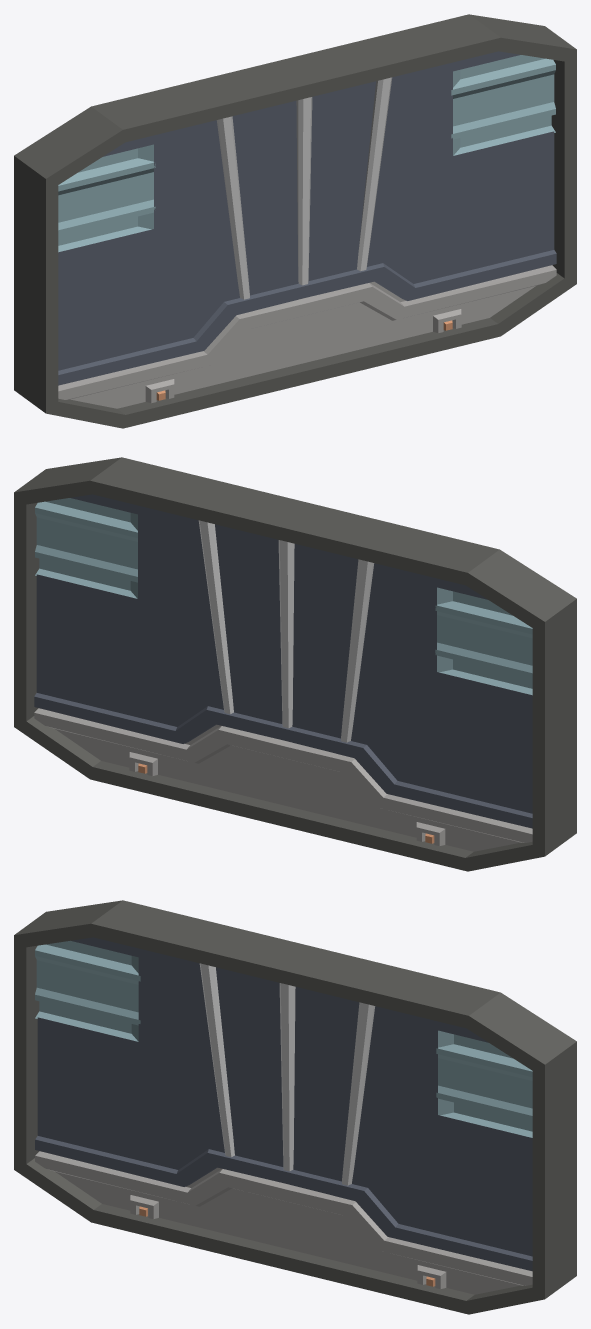
Rendered from gate.fbx.
3 renders of one model, top to bottom at view 1: azimuth 30°, elevation 25°; view 2: azimuth 150°, elevation 25°; view 3: azimuth 330°, elevation 25°, orthographic.
Parts seen in each view (by area): view 1: 对象003, Box013, Box014; view 2: 对象003, Box013, Box014; view 3: 对象003, Box013, Box014.
Boxes of the visible parts, x1,y1,x2,y2 form: 对象003: [58, 51, 556, 385]; Box013: [14, 14, 576, 428]; Box014: [58, 265, 556, 408]; 对象003: [34, 494, 532, 828]; Box013: [14, 457, 576, 871]; Box014: [34, 708, 532, 851]; 对象003: [35, 937, 532, 1271]; Box013: [14, 900, 576, 1314]; Box014: [35, 1151, 532, 1294].
Bounding box in the file's own units: 708 × 380 × 73.75.
